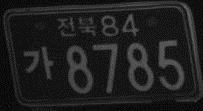4: (121, 12, 138, 36)
5: (157, 39, 184, 91)
7: (91, 41, 120, 95)
8: (125, 41, 155, 93), (65, 43, 94, 94), (100, 14, 119, 38)
가: (22, 46, 54, 81)
전북_O: (56, 16, 98, 38)
